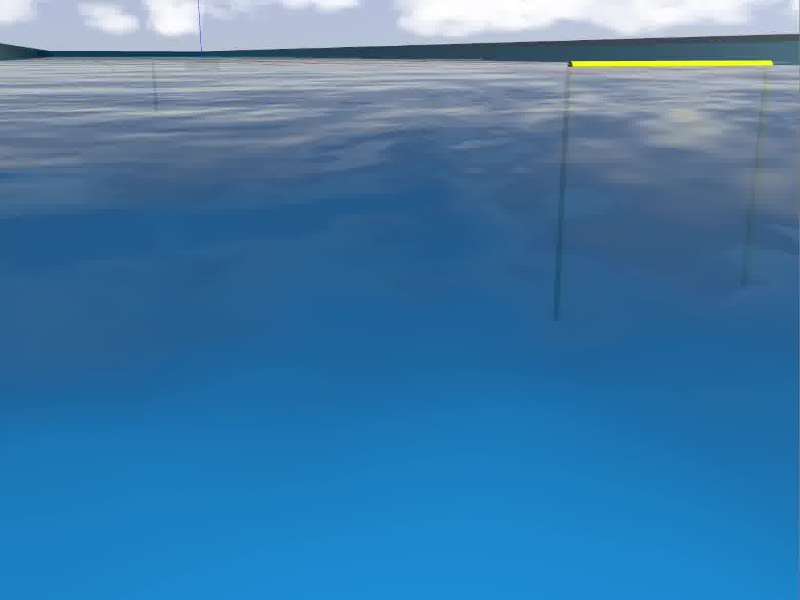gate: (553, 56, 774, 322)
